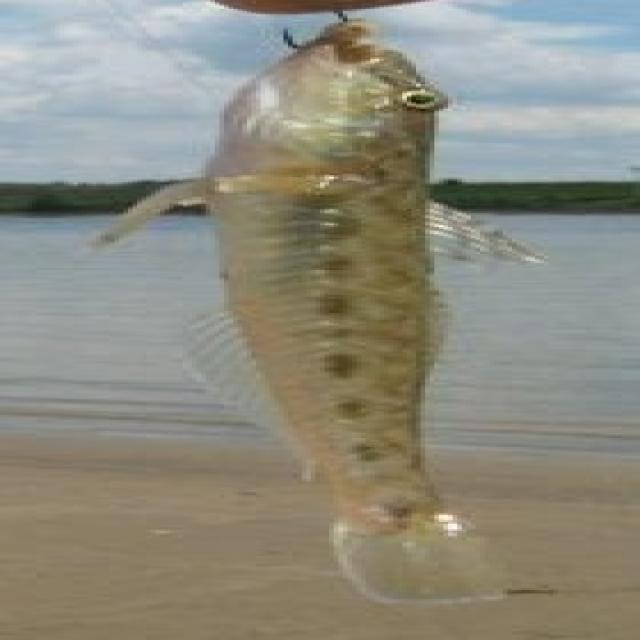Goby: (105, 12, 640, 640)
